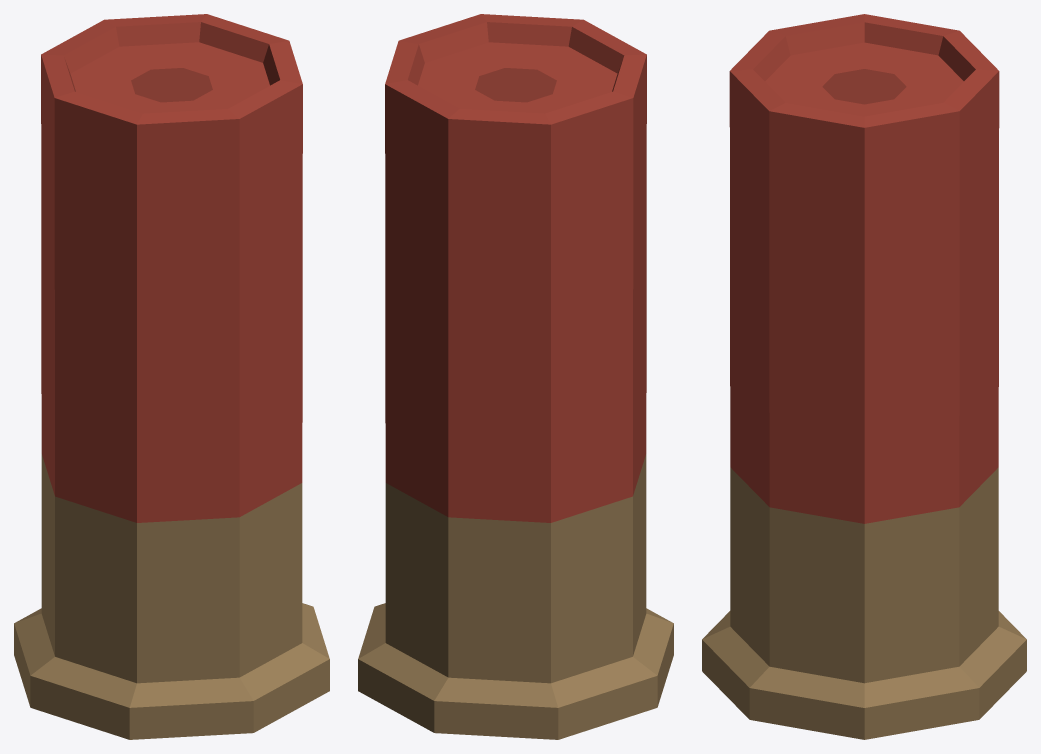
Rendered from SM_Wep_Ammo_Bullet_03.fbx.
The picture shows the model from 3 angles, left to right: view 1: azimuth 30°, elevation 25°; view 2: azimuth 150°, elevation 25°; view 3: azimuth 270°, elevation 25°; orthographic projection.
Parts seen in each view (by area): view 1: SM_Wep_Ammo_Bullet_03; view 2: SM_Wep_Ammo_Bullet_03; view 3: SM_Wep_Ammo_Bullet_03.
Part boxes in pixels (left/top/right/bottom): SM_Wep_Ammo_Bullet_03: left=14, top=14, right=329, bottom=739; SM_Wep_Ammo_Bullet_03: left=358, top=14, right=673, bottom=739; SM_Wep_Ammo_Bullet_03: left=702, top=14, right=1026, bottom=739.
Bounding box in the file's own units: 4.08 × 8.34 × 4.08.
